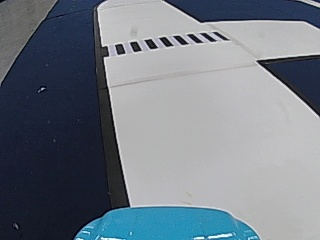CrossWalk: (103, 30, 226, 56)
